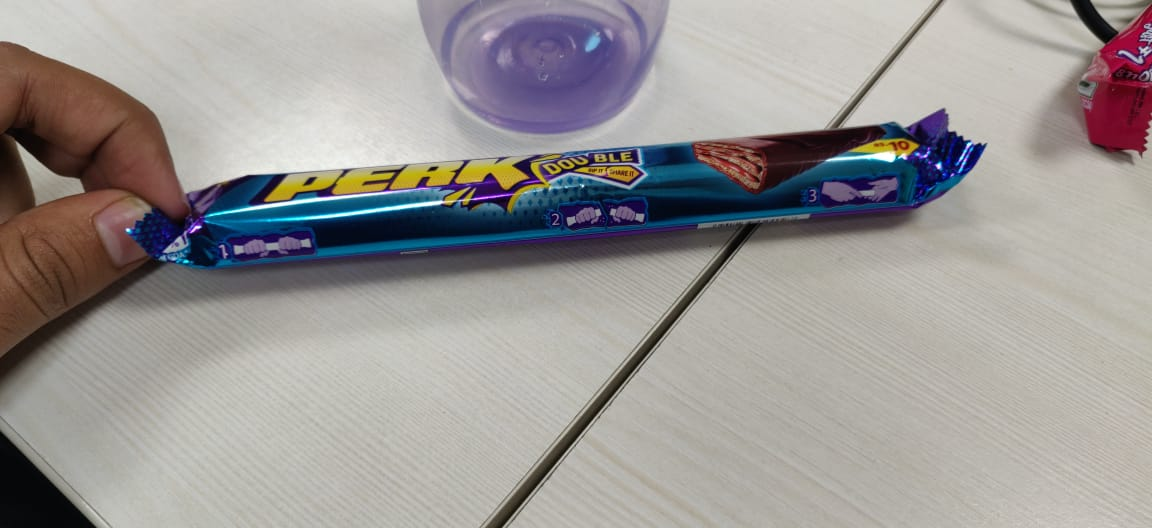perk: (131, 98, 1007, 283)
